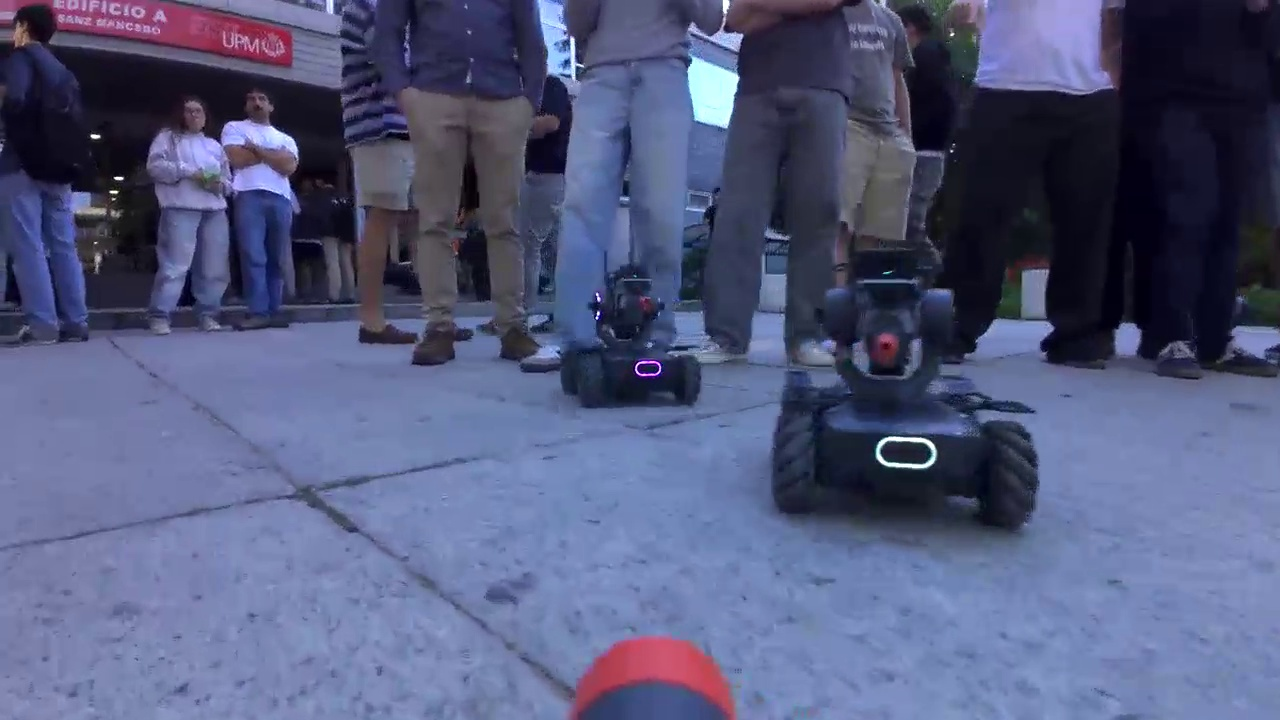robot: (771, 247, 1040, 536), (559, 263, 703, 410)
